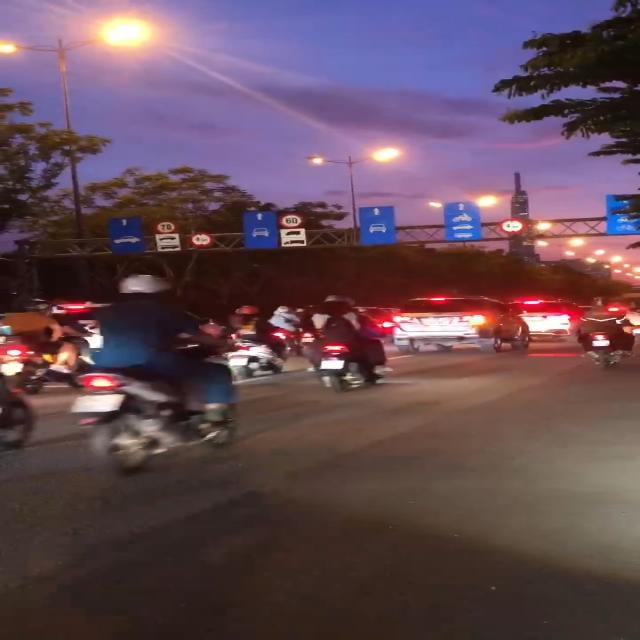Bien bao toc do toi da cho phep: (275, 213, 307, 230), (154, 220, 178, 235)
